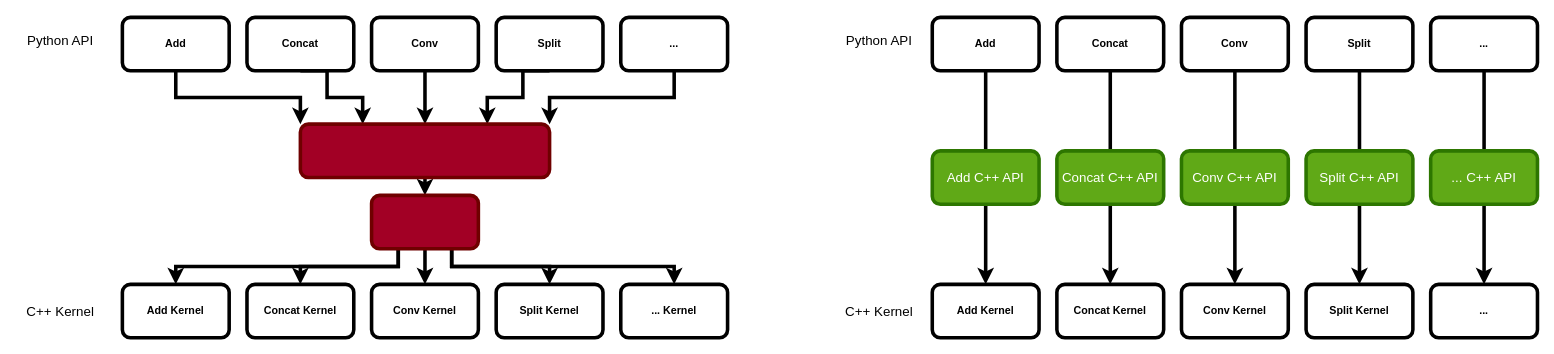
Image size: 1554x354. Some labels were removed from this diagram. Here are the shapes that lost their labels. From the top down, the centre of each, then its label:
At pixel 424 150: "Mindspore:PyNativeExecutor PaddlePaddle:Tracer".
At pixel 424 221: "Operator System".
